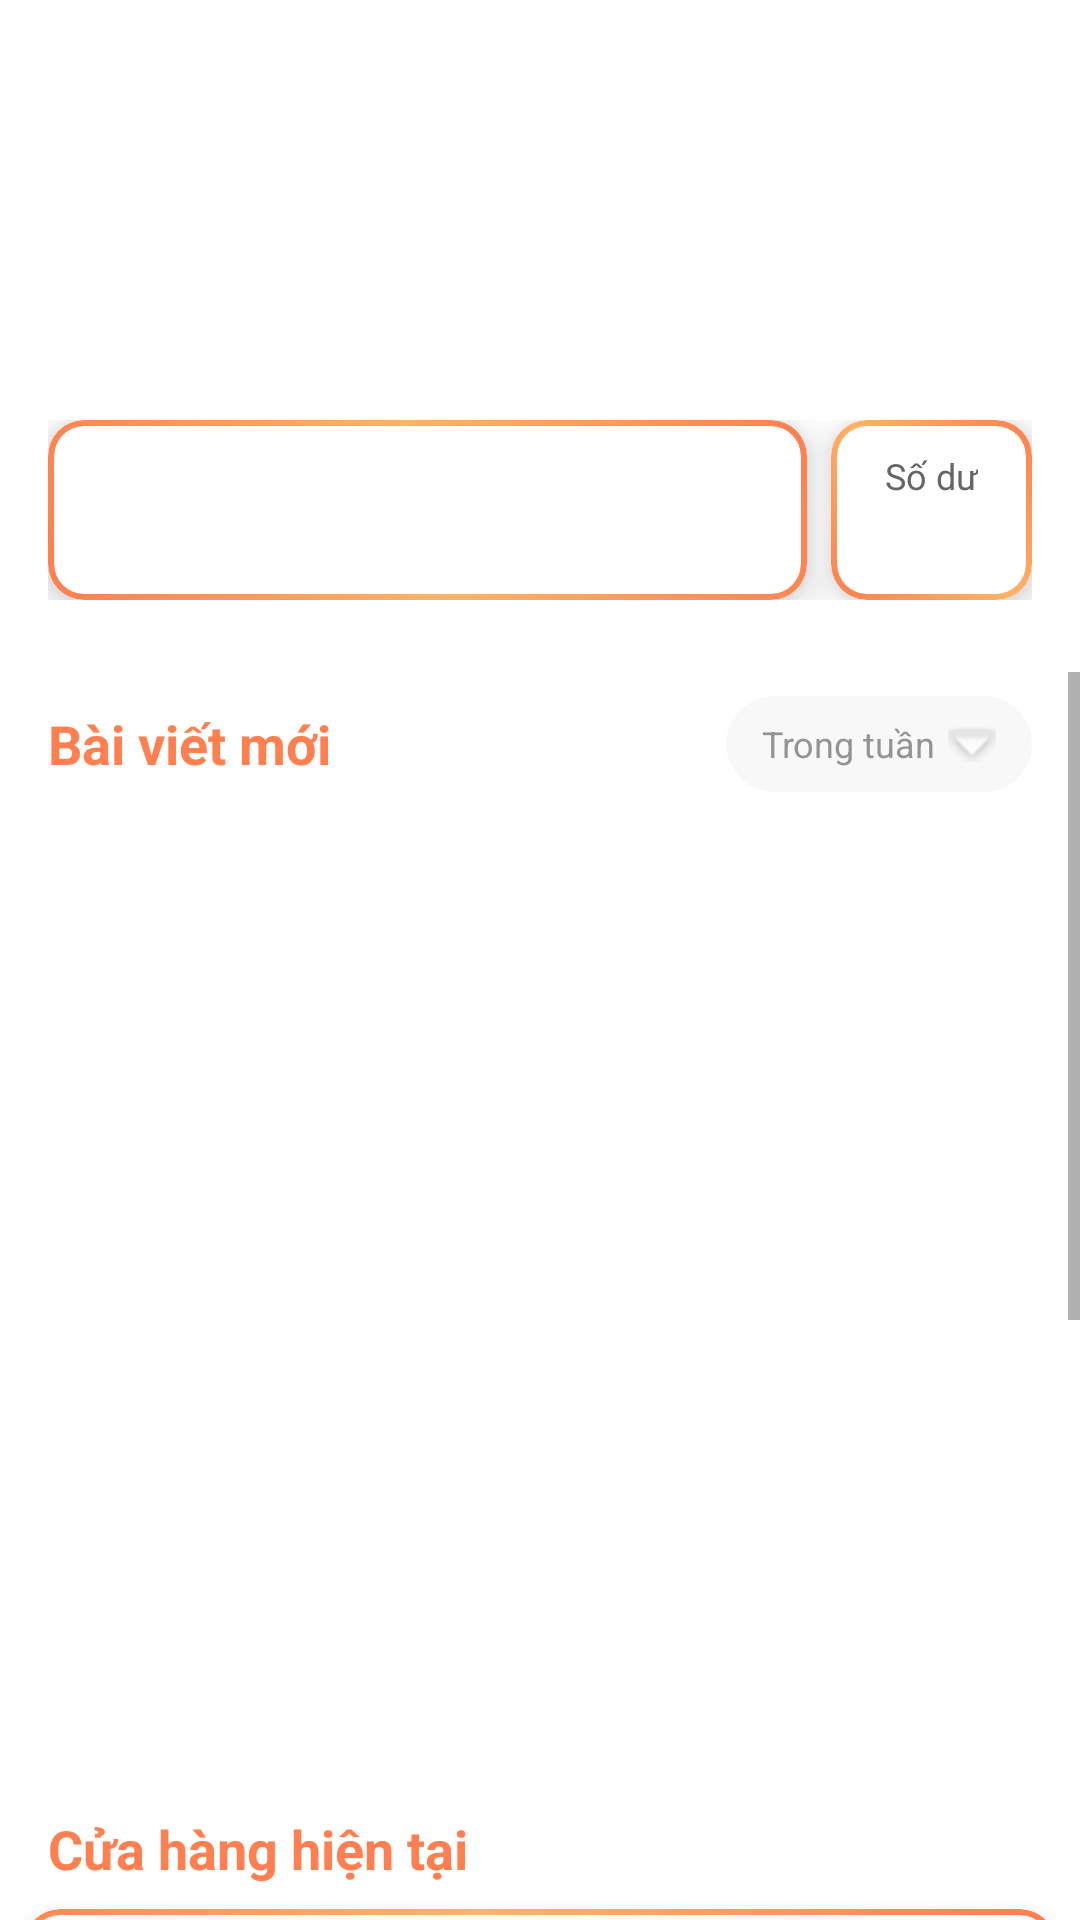

Screen size 1080*1920. Icon name, then its box in pixels as [left=x1, top=y1, right=x2, bottom=y2]:
arrow down float: [left=953, top=738, right=991, bottom=755]
